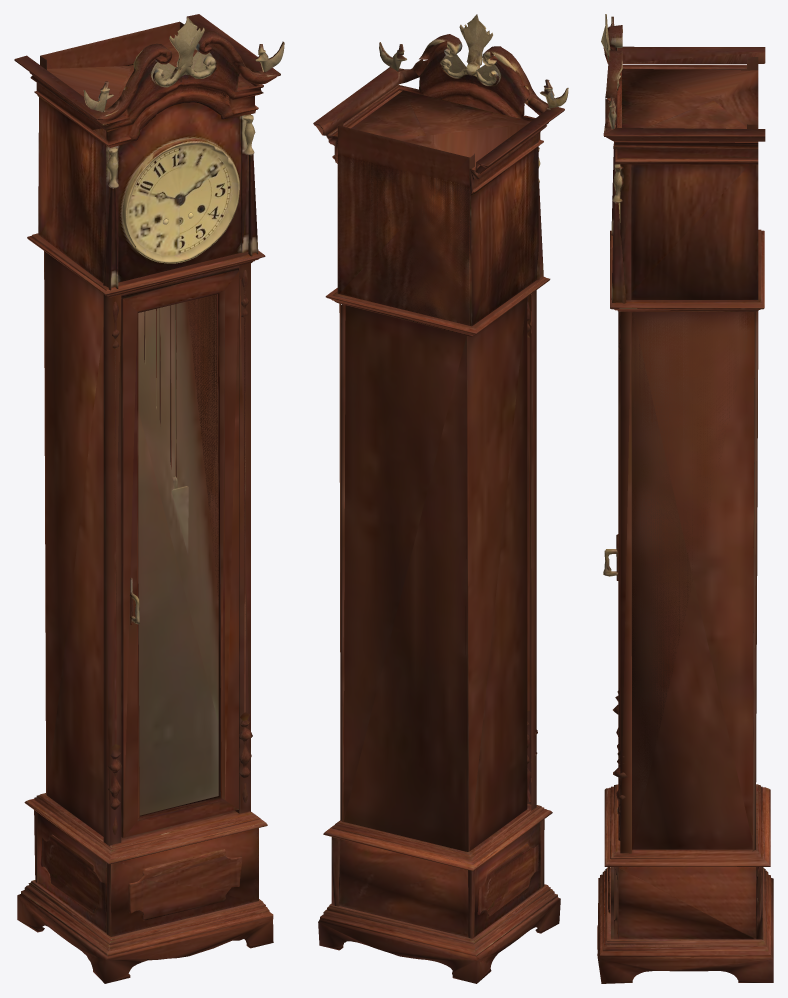
The model's file is grandfather_clock.glb.
3 views of the same model, side by side, from view 1: azimuth 30°, elevation 25°; view 2: azimuth 150°, elevation 25°; view 3: azimuth 270°, elevation 25° (orthographic). The views are drawn at different scales.
Size of the model in its own units: 0.2104 by 0.9512 by 0.1636.
1 material, 1 textured.
